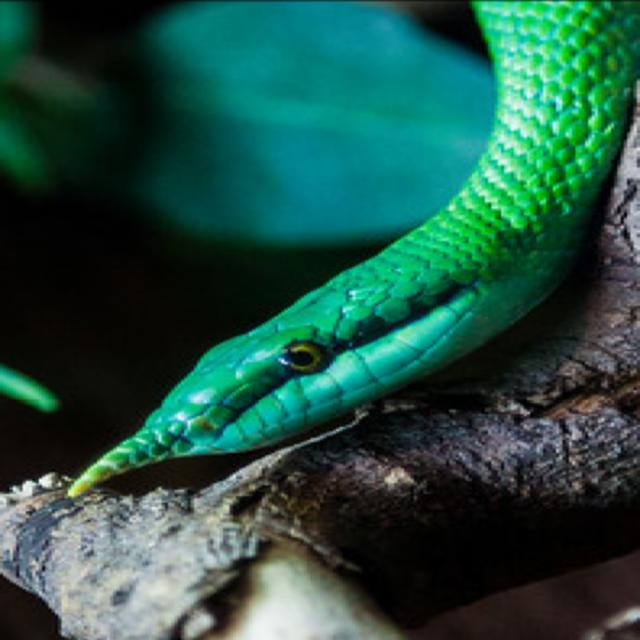snake: (55, 0, 640, 502)
